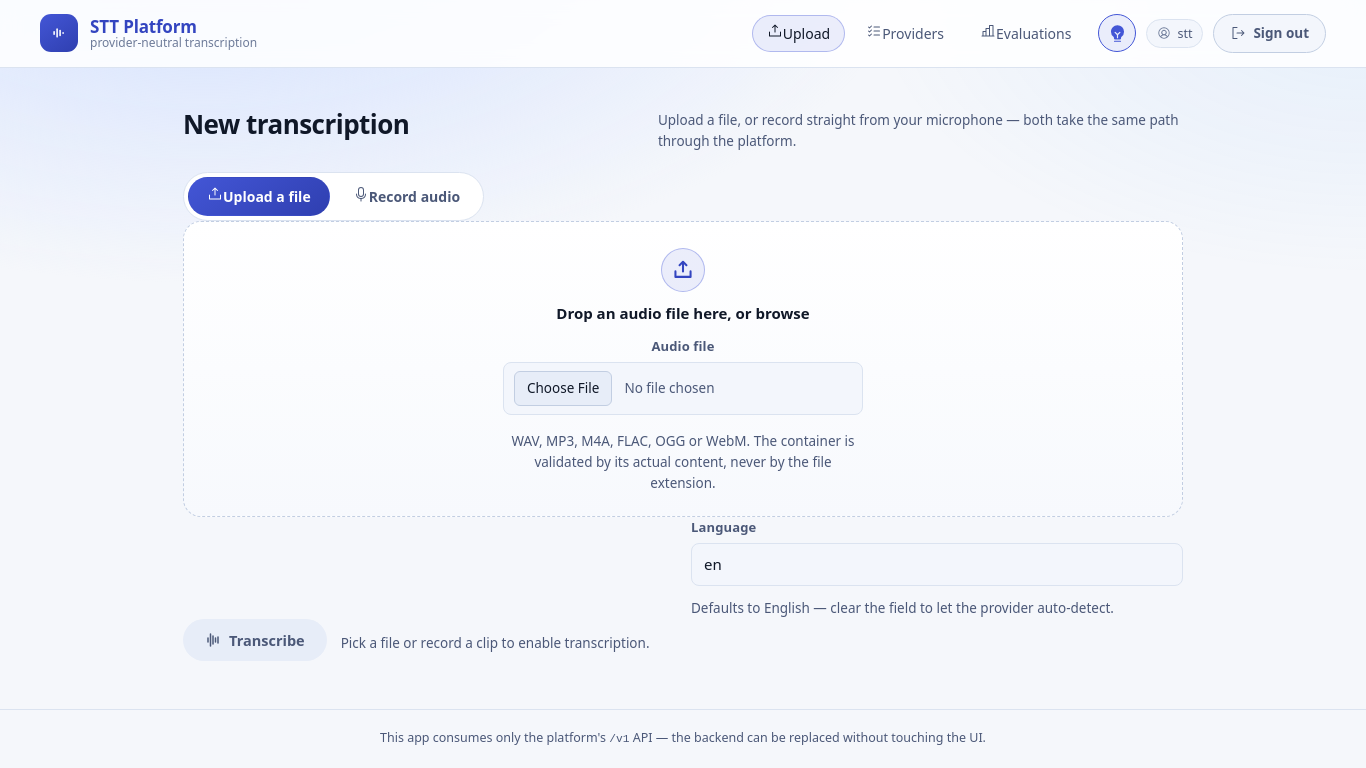
Test: signing out returns to the public page
The width and height of the screenshot is (1366, 768).
Expected: the heading "STT Platform" is shown, left=90, top=15, right=197, bottom=38
Click the button "Sign out".
click(1270, 33)  # box left=1213, top=14, right=1326, bottom=53
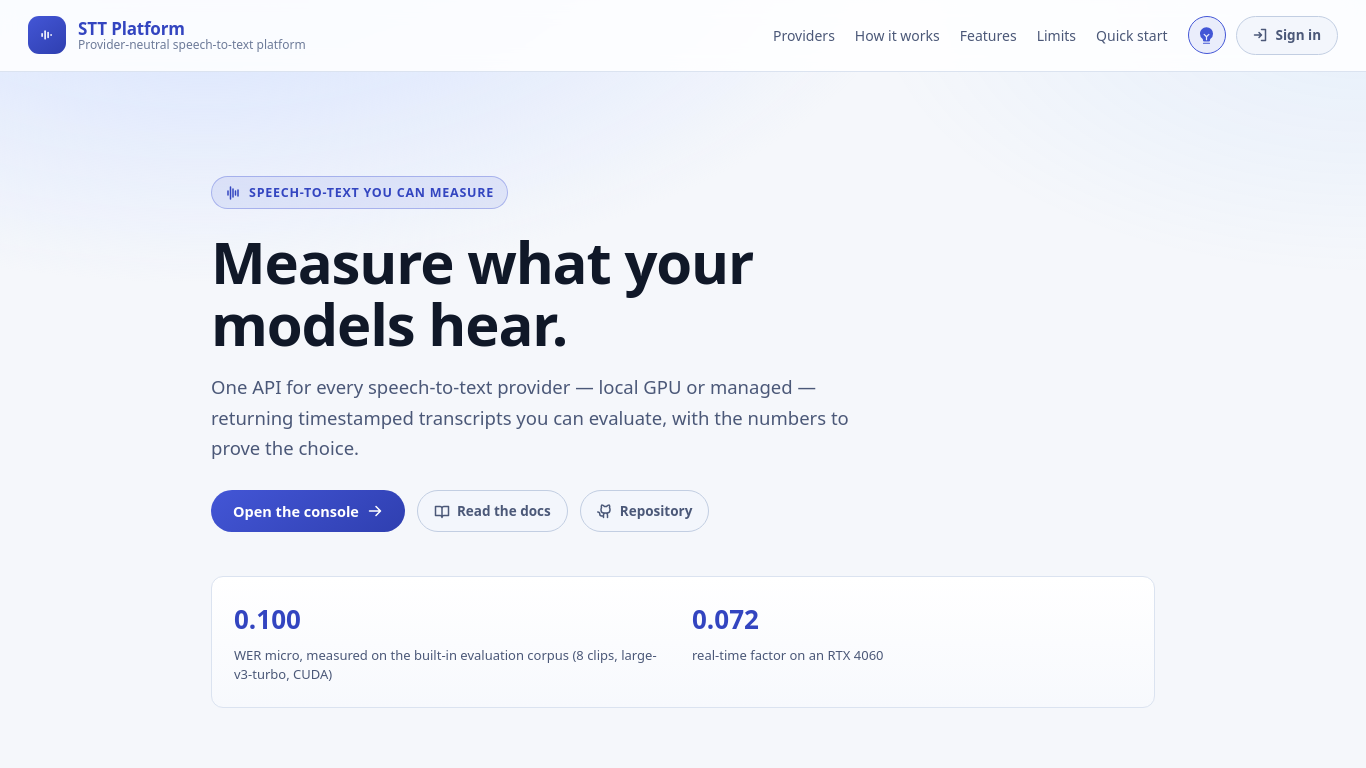
Now the heading "Measure what your models hear." is shown, box left=211, top=231, right=808, bottom=354
